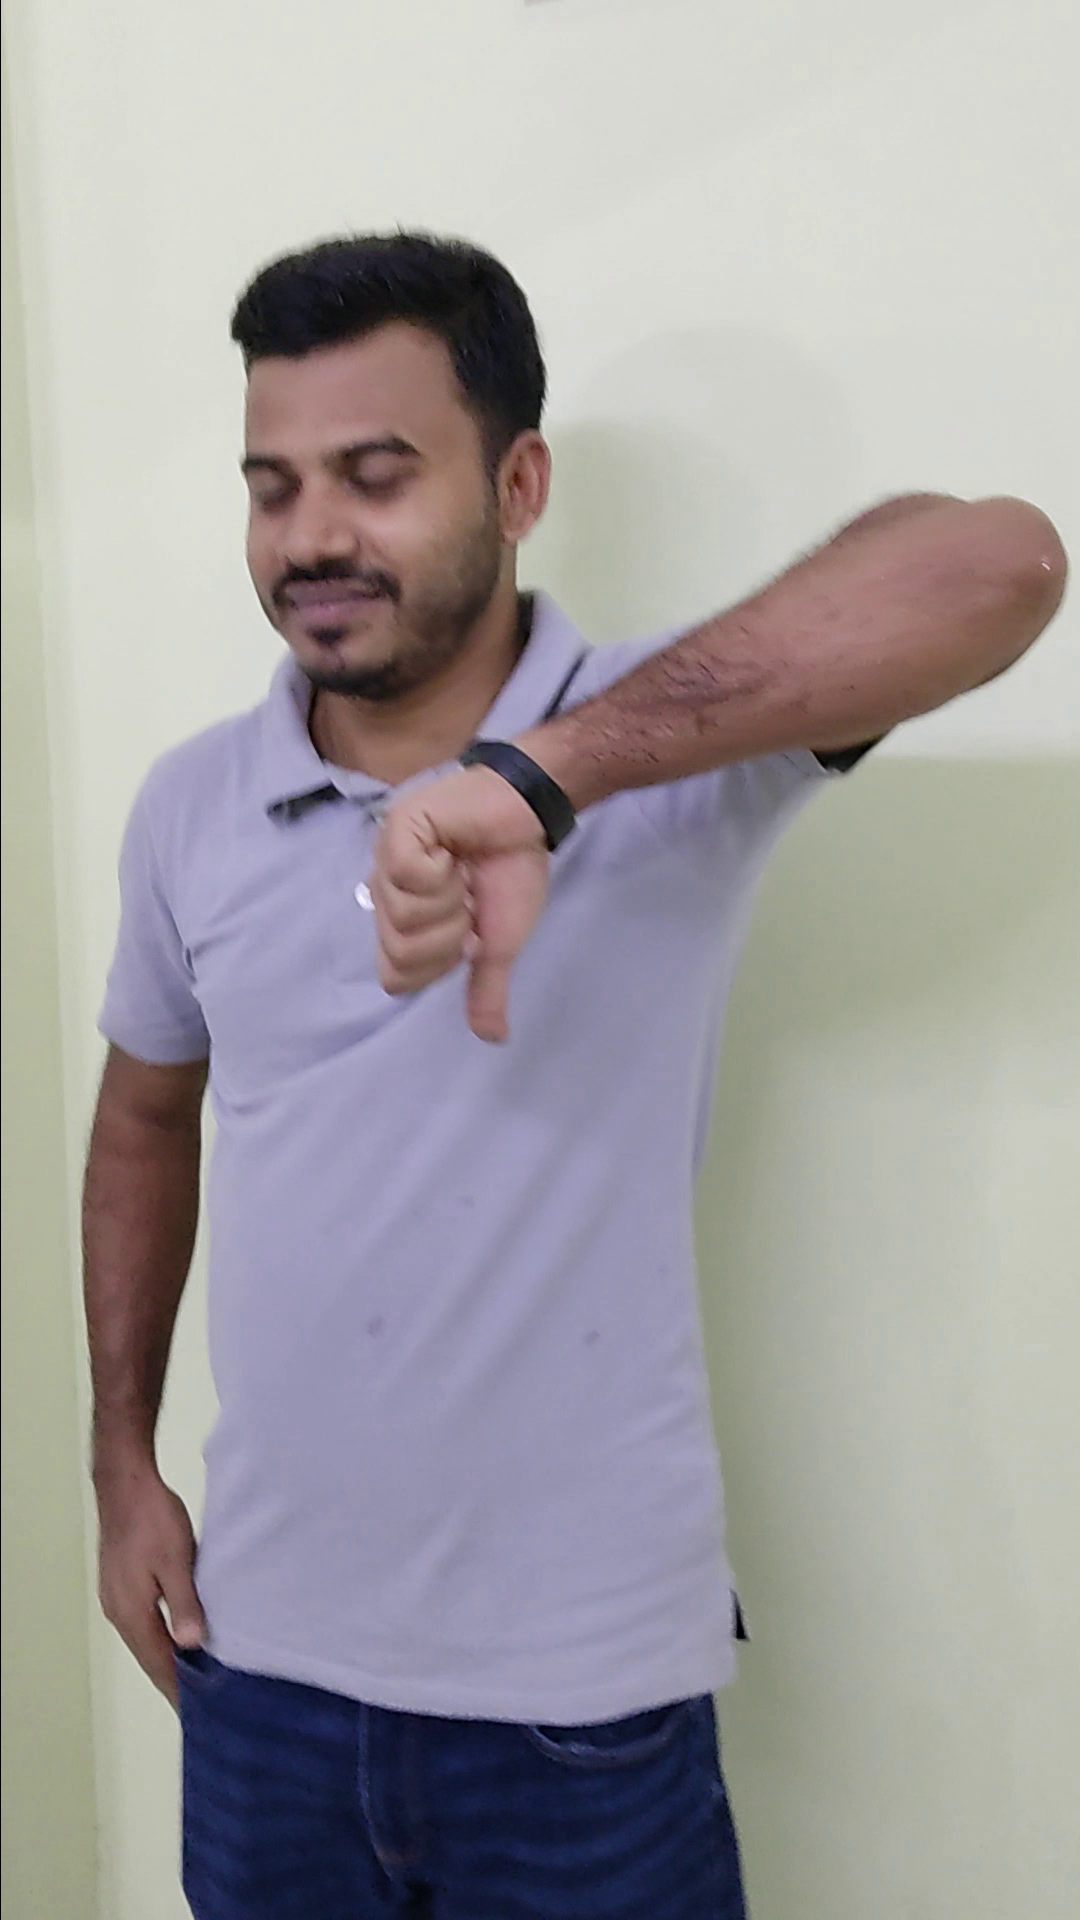Dislike: (342, 731, 568, 1060)
None: (69, 1428, 216, 1721)
